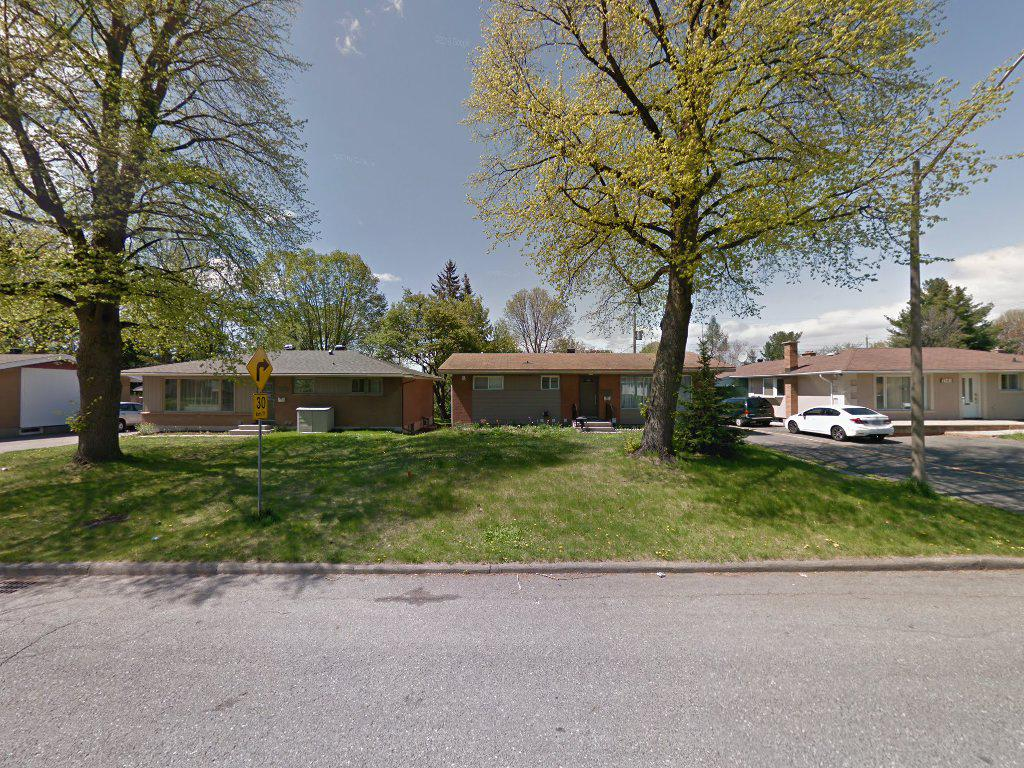trunk: (68, 287, 127, 483), (639, 266, 690, 470)
